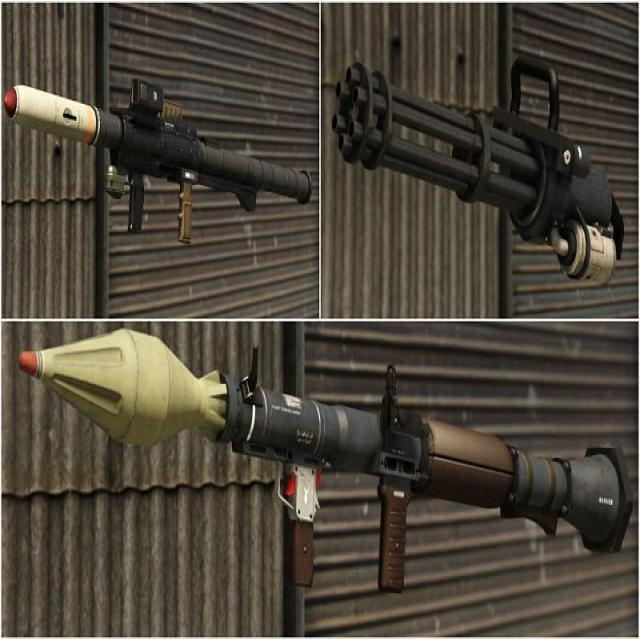bazooka: (11, 321, 640, 607), (328, 48, 639, 295), (5, 69, 319, 258)
